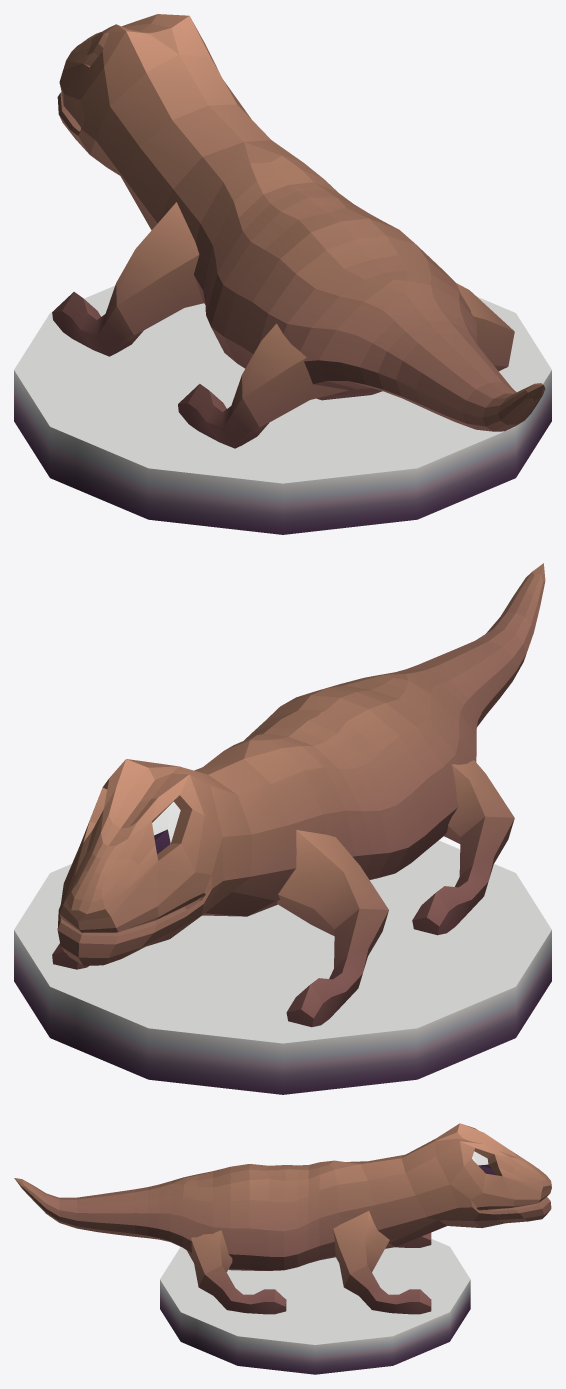
The model's file is Statue Komodo.fbx.
3 views of the same model, one above another, from view 1: azimuth 30°, elevation 25°; view 2: azimuth 150°, elevation 25°; view 3: azimuth 270°, elevation 25° (orthographic). The views are drawn at different scales.
Parts seen in each view (by area): view 1: Statue Komodo; view 2: Statue Komodo; view 3: Statue Komodo.
Part boxes in pixels (box(x1,y1,x2,y2)): Statue Komodo: box(14, 14, 551, 534); Statue Komodo: box(14, 563, 551, 1094); Statue Komodo: box(14, 1123, 551, 1374).
Size of the model in its own units: 566 by 355 by 980.
Materials: 2 (2 with a texture image).
